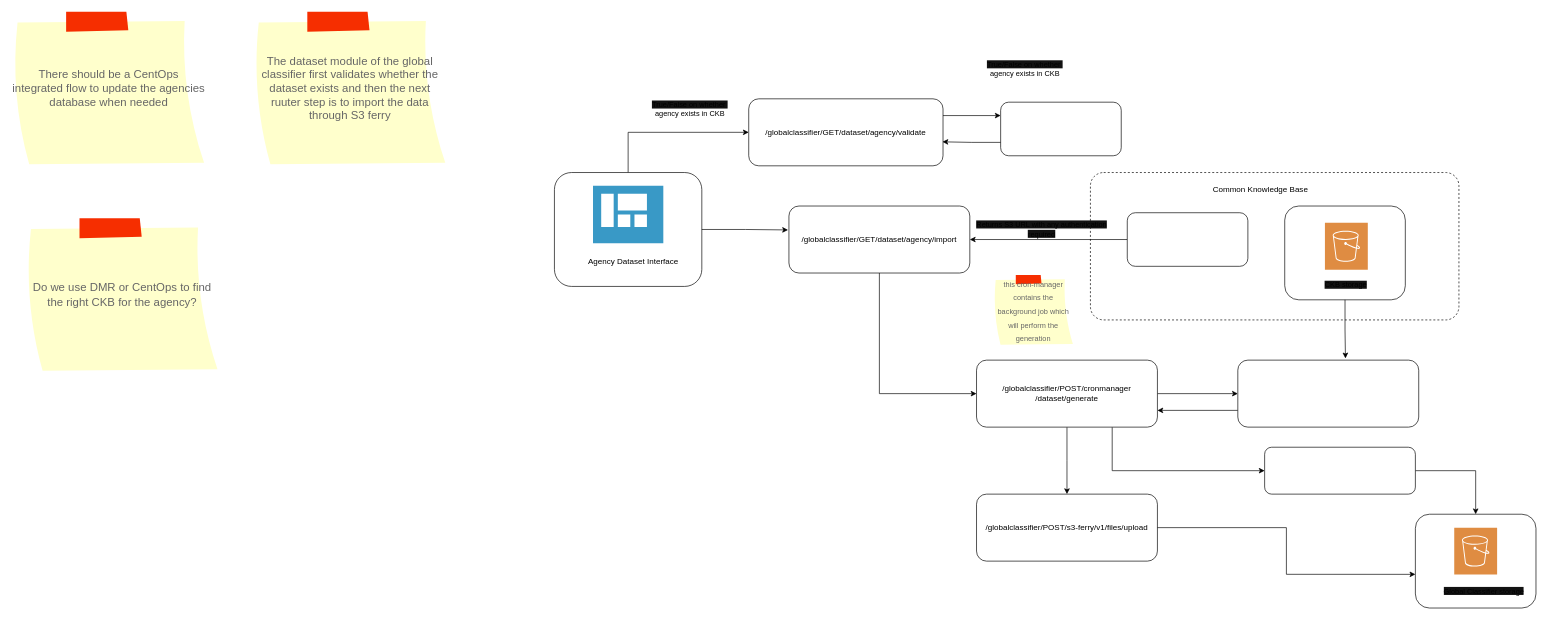
Image size: 1548x620. Some labels were removed from this diagram. The shapes that lost their labels are listed below. From the top down, each one's box as (x1, y1, x2, y2) in pixels, then its label:
(1000, 102, 1121, 156): /ckb/GET/agency/data/exists
(1127, 212, 1248, 266): /ckb/GET/agency/data/import
(1237, 359, 1419, 427): /globalclassifier/POST/s3-ferry/v1/files/copy
(1264, 447, 1415, 494): /globalclassifier/POST/s3-ferry/v1/files/delete
